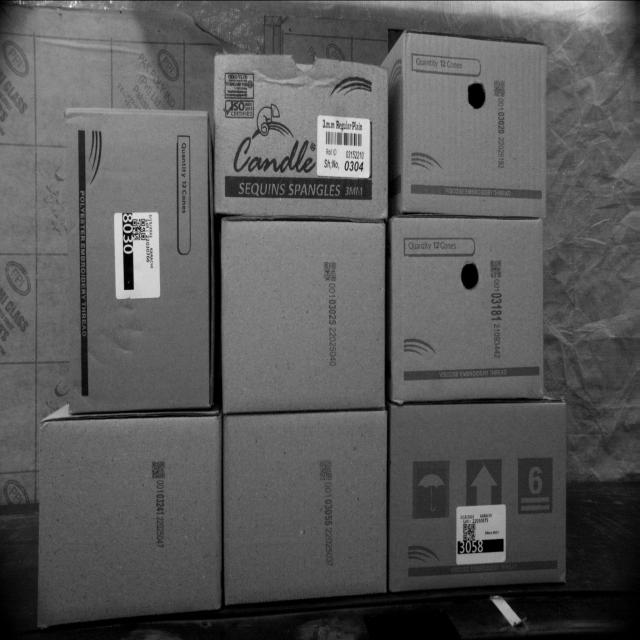cardboxes: (61, 106, 214, 413), (36, 412, 222, 626), (224, 413, 388, 609), (392, 403, 566, 584), (224, 215, 386, 409), (213, 58, 388, 218), (389, 218, 547, 394), (399, 28, 546, 214)
